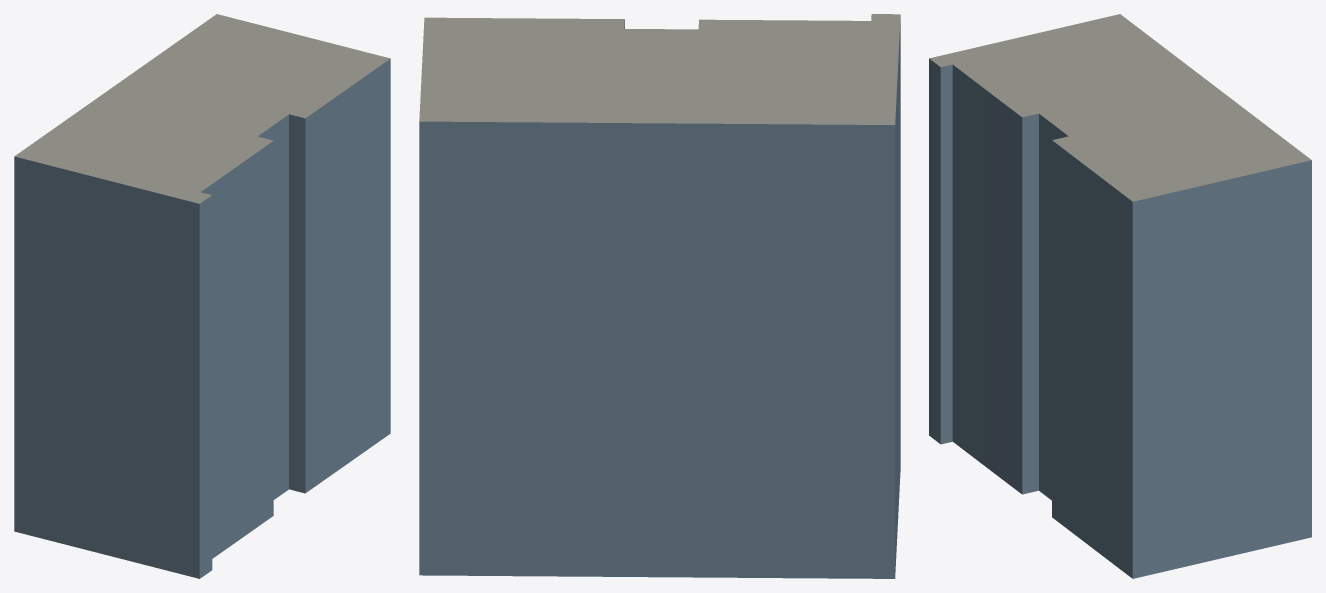
Rendered from nyc-1015235-0.glb.
3 views of the same model, side by side, from view 1: azimuth 30°, elevation 25°; view 2: azimuth 150°, elevation 25°; view 3: azimuth 270°, elevation 25° (orthographic). The views are drawn at different scales.
Parts seen in each view (by area): view 1: nyc-1015235-0; view 2: nyc-1015235-0; view 3: nyc-1015235-0.
Part boxes in pixels (left/top/right/bottom): nyc-1015235-0: left=14, top=14, right=390, bottom=578; nyc-1015235-0: left=419, top=14, right=900, bottom=578; nyc-1015235-0: left=929, top=14, right=1311, bottom=578.
Bounding box in the file's own units: 57.7 × 54.03 × 49.7.
